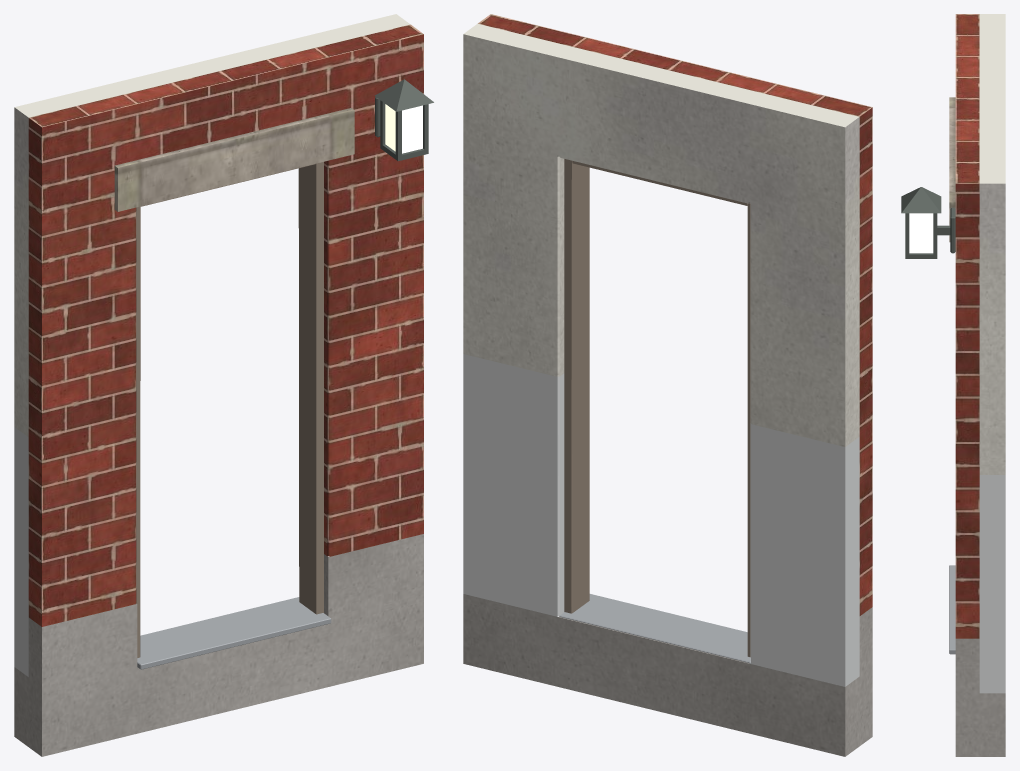
Rendered from q_door.glb.
3 renders of one model, left to right at view 1: azimuth 30°, elevation 25°; view 2: azimuth 150°, elevation 25°; view 3: azimuth 270°, elevation 25°, orthographic. The views are drawn at different scales.
Visible parts, largest first — view 1: q_door_brick, q_door_concrete, q_door_trim, q_door_stone, q_door_plaster, q_door_steel, q_door_tile, q_door_iron, q_door_lamp_glass; view 2: q_door_plaster, q_door_tile, q_door_concrete, q_door_trim, q_door_brick, q_door_steel; view 3: q_door_brick, q_door_plaster, q_door_tile, q_door_concrete, q_door_iron, q_door_lamp_glass, q_door_stone, q_door_steel.
Boxes of the visible parts, x1,y1,x2,y2 form: q_door_brick: [28, 24, 423, 626]; q_door_concrete: [14, 534, 423, 756]; q_door_trim: [136, 162, 323, 657]; q_door_stone: [114, 108, 354, 211]; q_door_plaster: [14, 14, 410, 436]; q_door_steel: [137, 597, 331, 669]; q_door_tile: [14, 427, 28, 676]; q_door_iron: [374, 79, 433, 161]; q_door_lamp_glass: [385, 104, 422, 153]; q_door_plaster: [463, 23, 859, 446]; q_door_tile: [463, 354, 859, 686]; q_door_concrete: [463, 594, 872, 756]; q_door_trim: [564, 159, 750, 657]; q_door_brick: [478, 14, 872, 615]; q_door_steel: [559, 594, 751, 663]; q_door_brick: [955, 14, 979, 638]; q_door_plaster: [979, 14, 1005, 474]; q_door_tile: [979, 475, 1005, 693]; q_door_concrete: [955, 638, 1005, 756]; q_door_iron: [901, 187, 955, 258]; q_door_lamp_glass: [909, 213, 933, 253]; q_door_stone: [949, 97, 955, 242]; q_door_steel: [949, 565, 955, 654].
Bounding box in the file's own units: 2 × 3.15 × 0.52.
9 materials, 4 textured.
